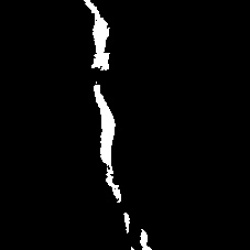crack: (84, 2, 150, 248)
